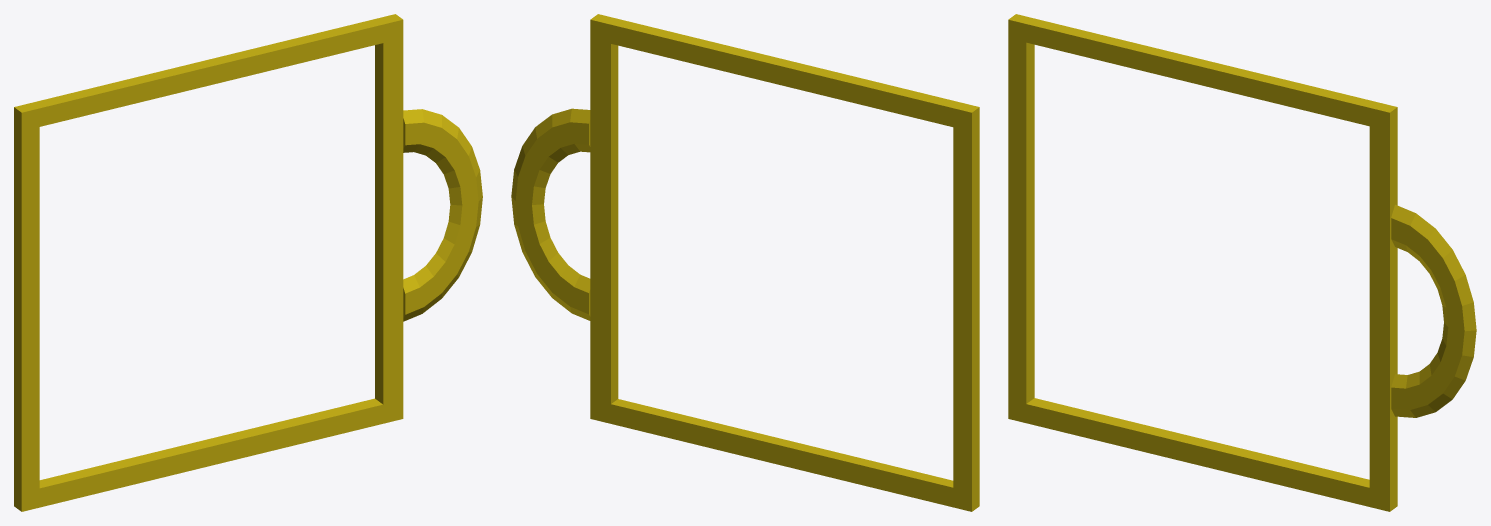
File: frame_1.obj
The picture shows the model from 3 angles, left to right: view 1: azimuth 30°, elevation 25°; view 2: azimuth 150°, elevation 25°; view 3: azimuth 330°, elevation 25°; orthographic projection.
Parts seen in each view (by area): view 1: Frame_Cube; view 2: Frame_Cube; view 3: Frame_Cube.
Boxes of the visible parts, left/top/right/bottom form: Frame_Cube: left=14, top=14, right=482, bottom=511; Frame_Cube: left=511, top=14, right=979, bottom=511; Frame_Cube: left=1008, top=14, right=1476, bottom=511.
Size of the model in its own units: 6.09 by 5 by 0.1823.
